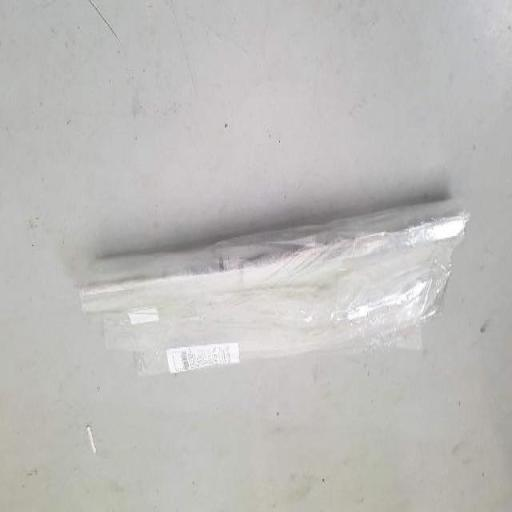plastic-bag: (76, 192, 469, 379)
